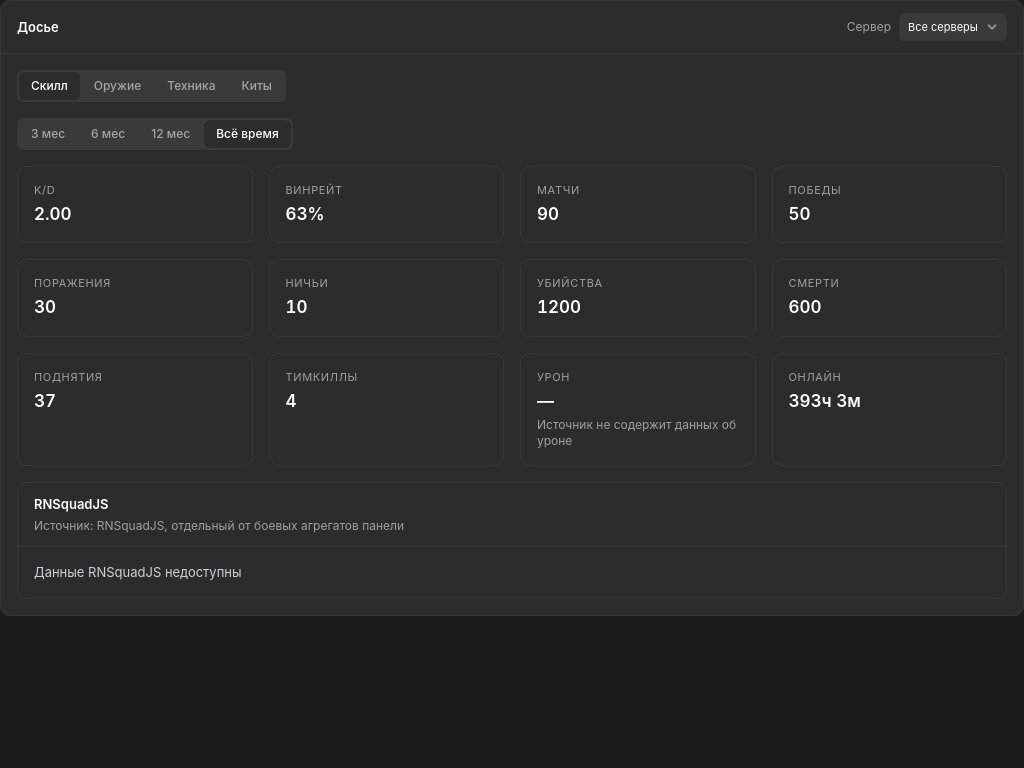
it: DossierSection › vehicles tab shows the catalogue name and the raw asset id in the title
The width and height of the screenshot is (1024, 768).
expect the text "K/D" is shown: met, box [34,183,55,197]
Click the tab "Техника" at (191, 86), box [155,72,228,100]
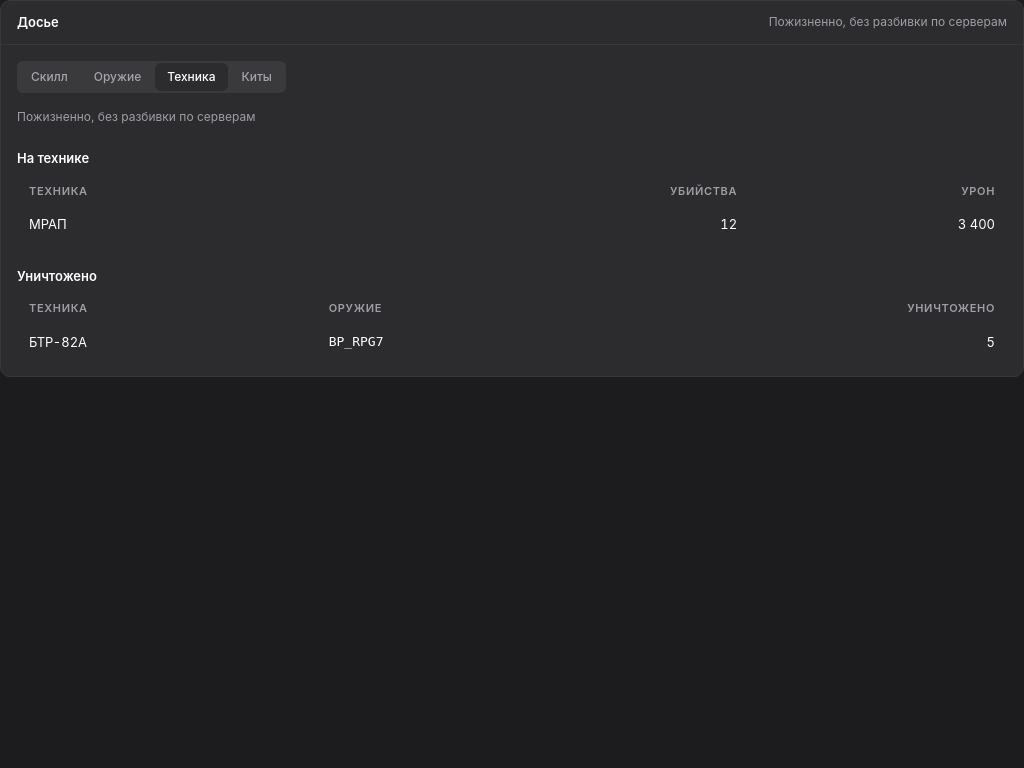
expect the heading "На технике" is shown: met, box [17,150,89,166]
expect the heading "Уничтожено" is shown: met, box [17,268,97,284]
expect the text "3 400" is shown: met, box [749,206,1007,242]
